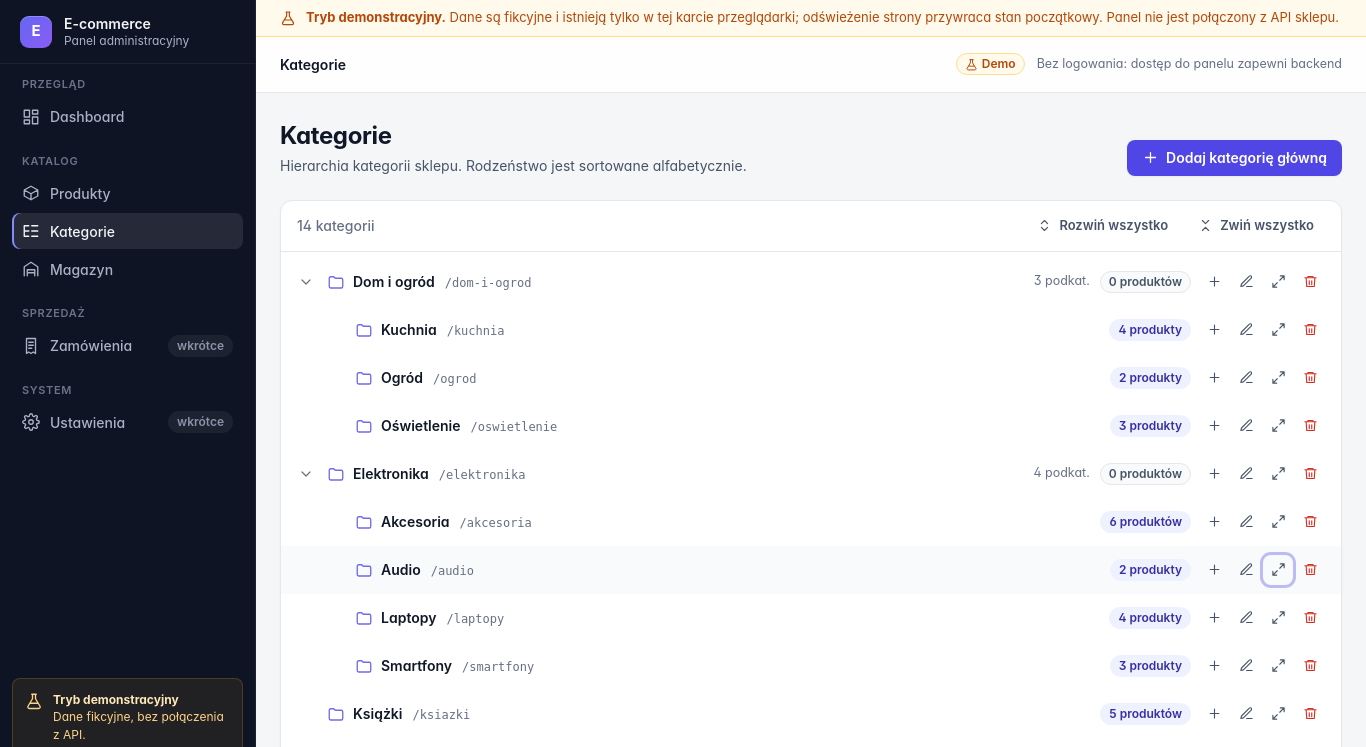
CategoriesPage › moves a category and keeps focus on the page
This screenshot has width=1366, height=747.
Click the button named "Przenieś Audio" at [1278, 570], box x1=1263 y1=554 x2=1293 y2=584
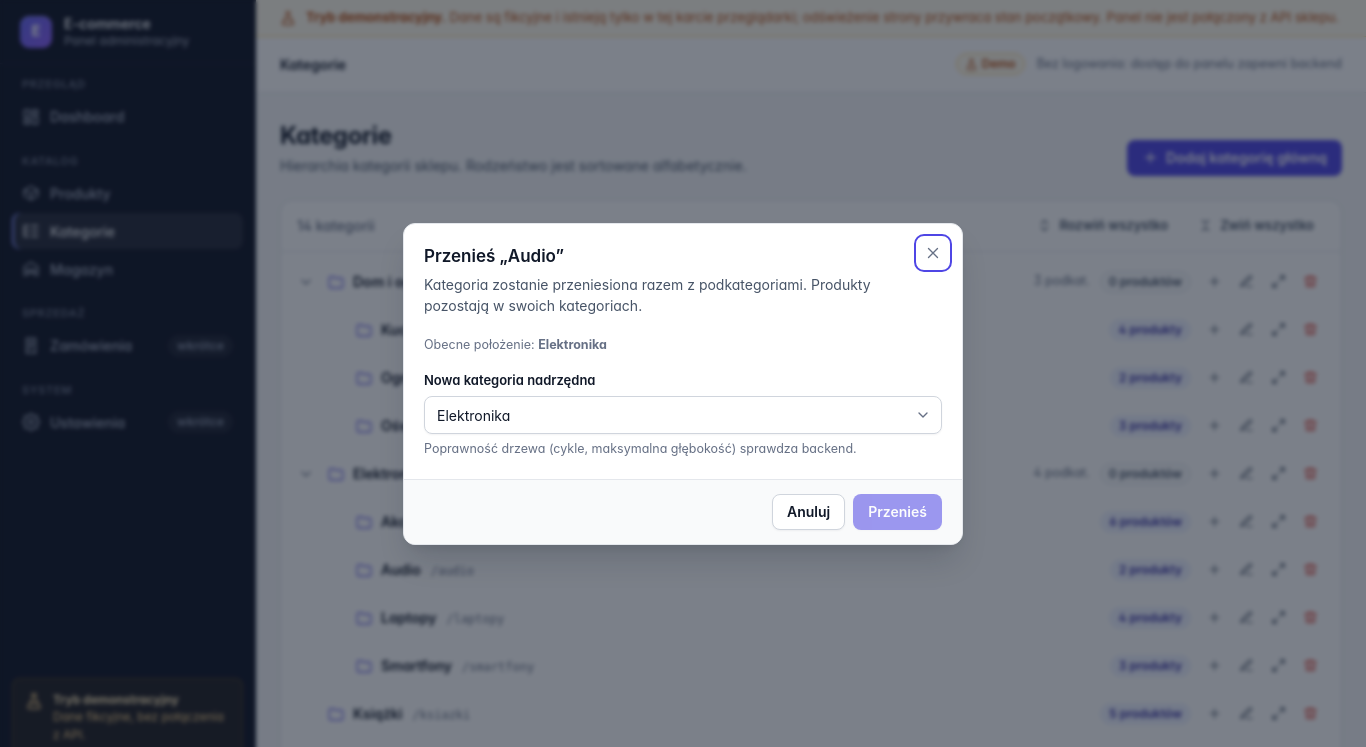
Select "Poziom główny (bez rodzica)" in the dropdown at [683, 415], box x1=424 y1=396 x2=942 y2=434
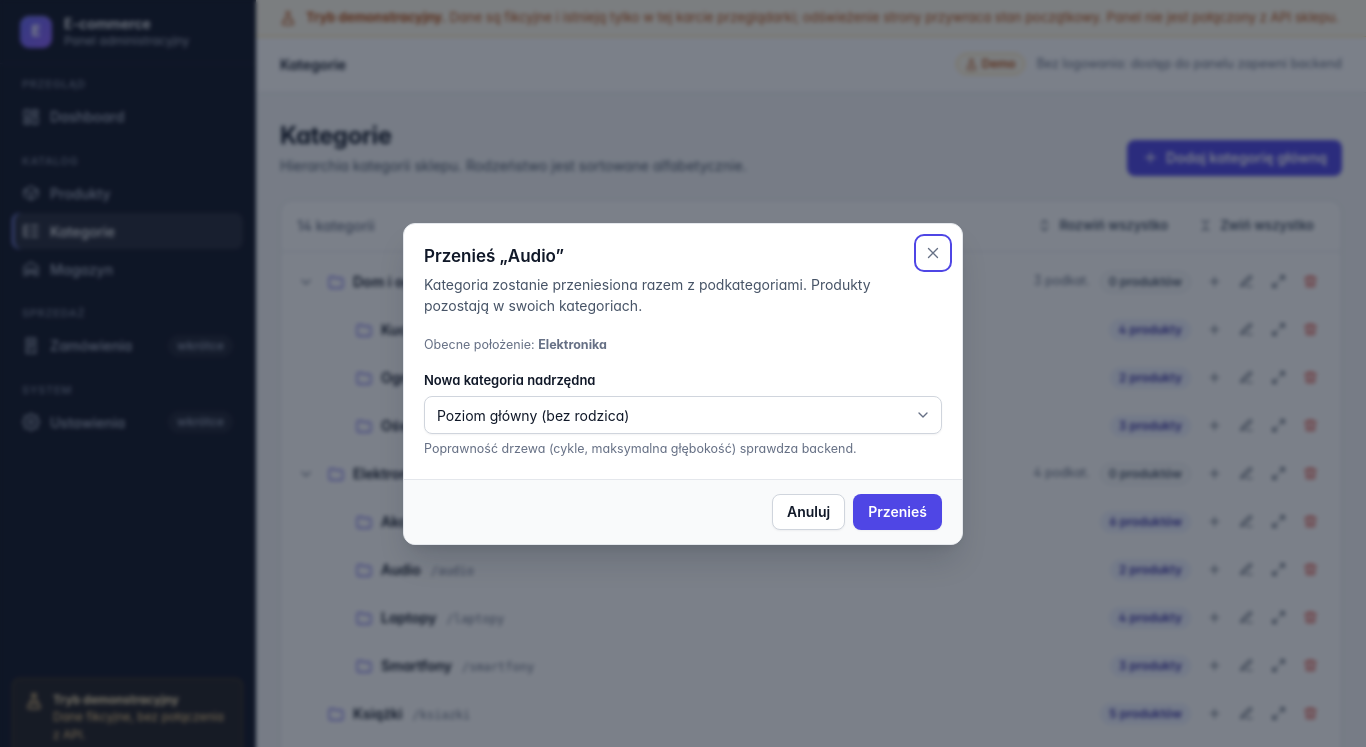
Click the button "Przenieś" at [898, 512], box x1=853 y1=494 x2=942 y2=530
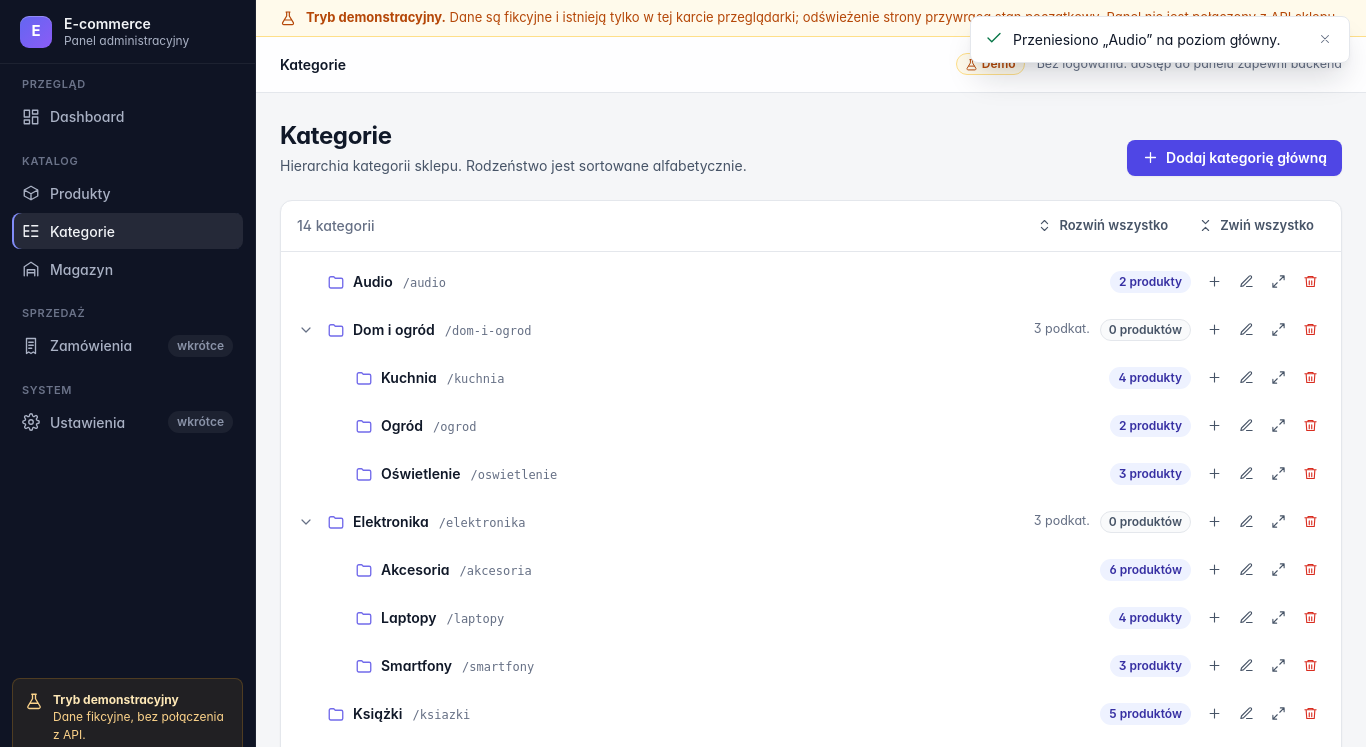
Expected: the text "Przeniesiono „Audio” na poziom główny." is shown, x1=1013 y1=29 x2=1305 y2=50
Expected: the dialog is gone
